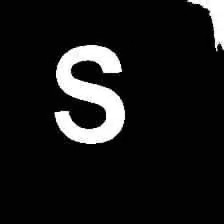LTR_S: (46, 38, 130, 147)
